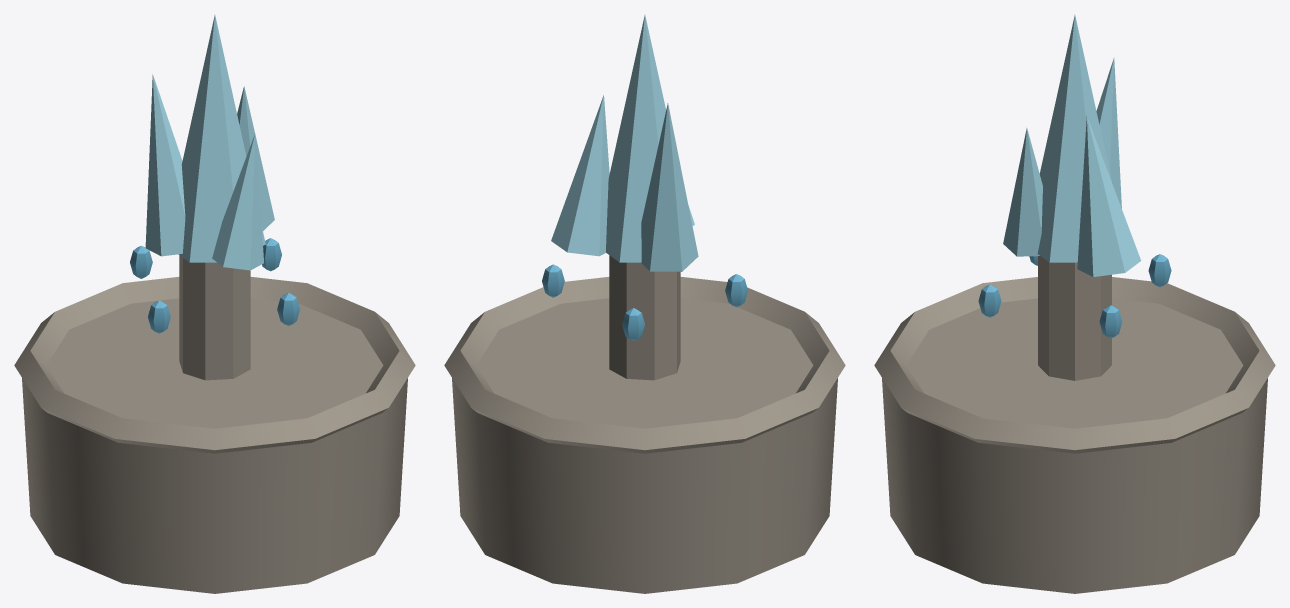
The model's file is PR_Station_Kristal_T1.fbx.
The picture shows the model from 3 angles, left to right: view 1: azimuth 30°, elevation 25°; view 2: azimuth 150°, elevation 25°; view 3: azimuth 270°, elevation 25°; orthographic projection.
Visible parts, largest first — view 1: PR_Station_Kristal_T1; view 2: PR_Station_Kristal_T1; view 3: PR_Station_Kristal_T1.
Part boxes in pixels (x1,y1,x2,y2): PR_Station_Kristal_T1: (14,15,415,593); PR_Station_Kristal_T1: (444,15,845,593); PR_Station_Kristal_T1: (874,15,1275,593).
Size of the model in its own units: 0.87 by 1.2 by 0.87.
1 material, 1 textured.
